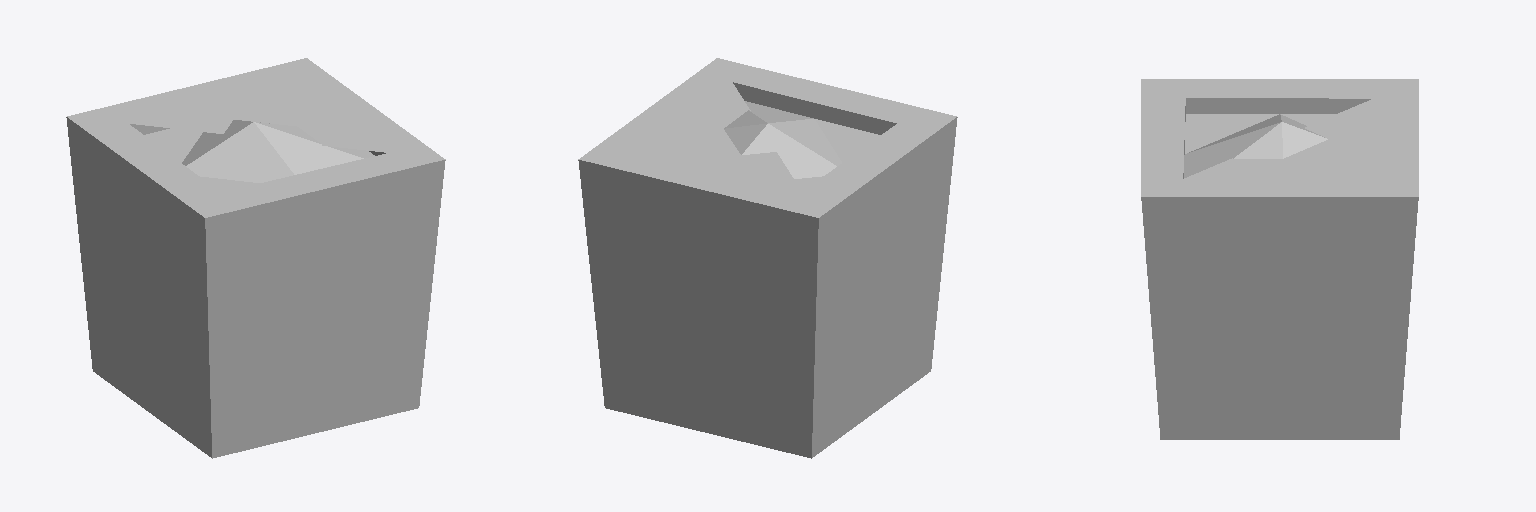
The picture shows the model from 3 angles: view 1: azimuth 30°, elevation 25°; view 2: azimuth 150°, elevation 25°; view 3: azimuth 270°, elevation 25°; orthographic projection.
Parts seen in each view (by area): view 1: Плоскость; view 2: Плоскость; view 3: Плоскость.
Part boxes in pixels (x1,y1,x2,y2): Плоскость: (66,58,445,458); Плоскость: (578,58,957,458); Плоскость: (1141,79,1418,439).
Size of the model in its own units: 1 by 1.06 by 1.